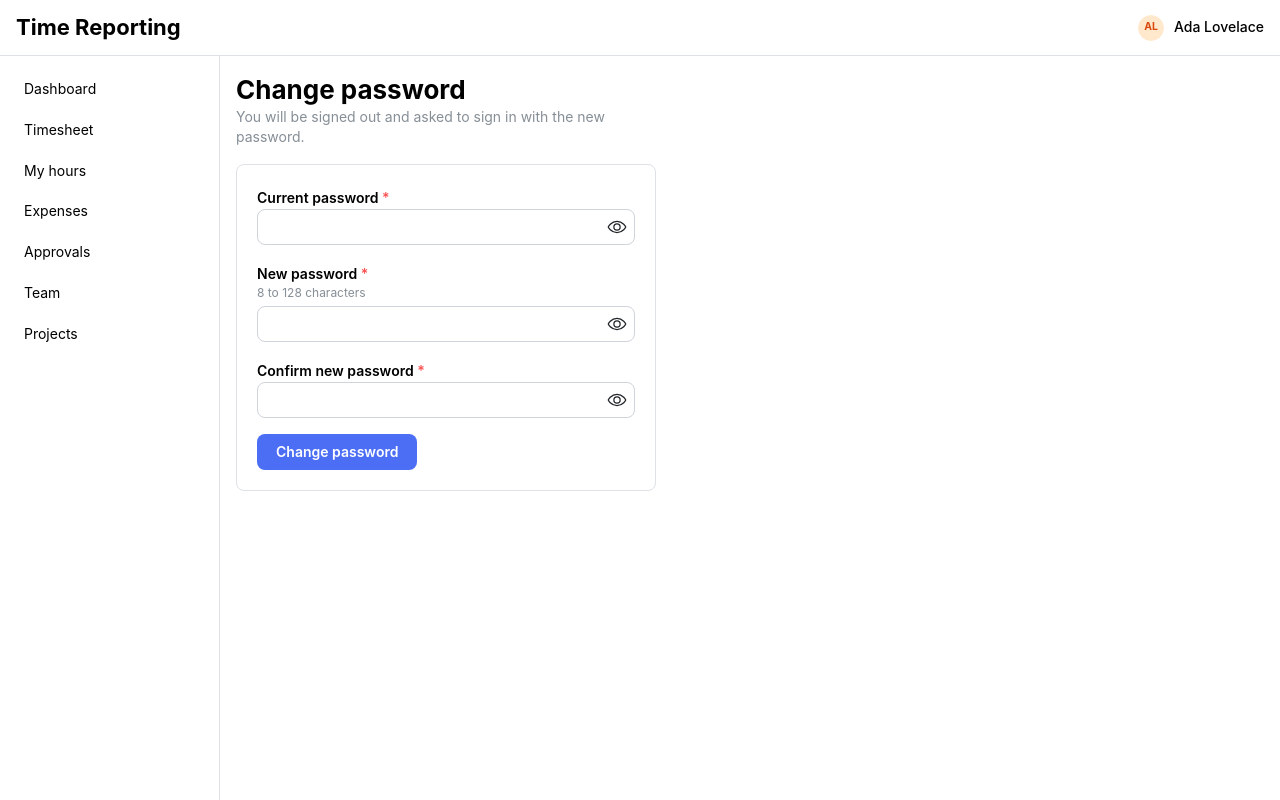
Test: changing the password › reports a wrong current password on its field
Expected: the heading "Change password" is shown, [236, 74, 466, 105]
Type "wrong-password" into the password field labelled "Current password *" at (446, 228), box [258, 210, 634, 244]
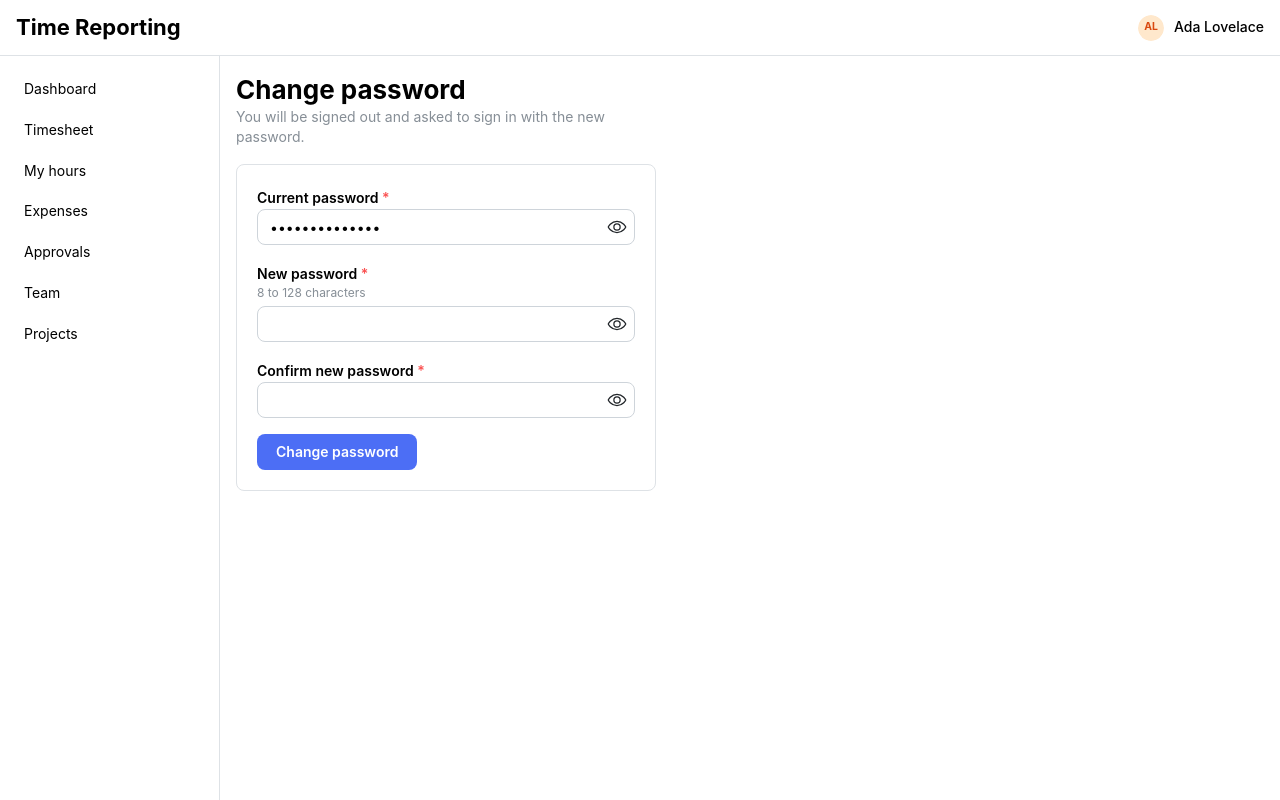
Type "new-password-1" into the password field labelled "New password *" at (446, 324), box [258, 307, 634, 341]
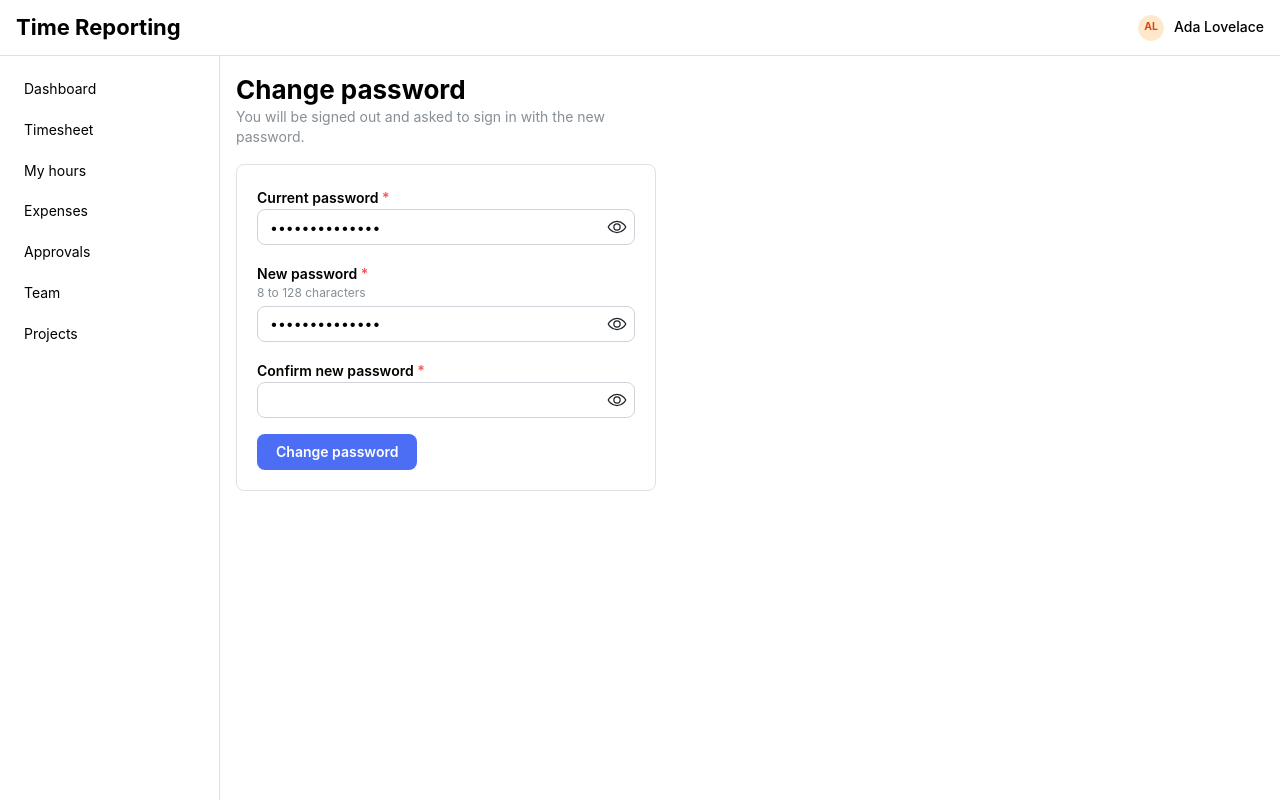
Type "new-password-1" into the password field labelled "Confirm new password *" at (446, 400), box [258, 384, 634, 418]
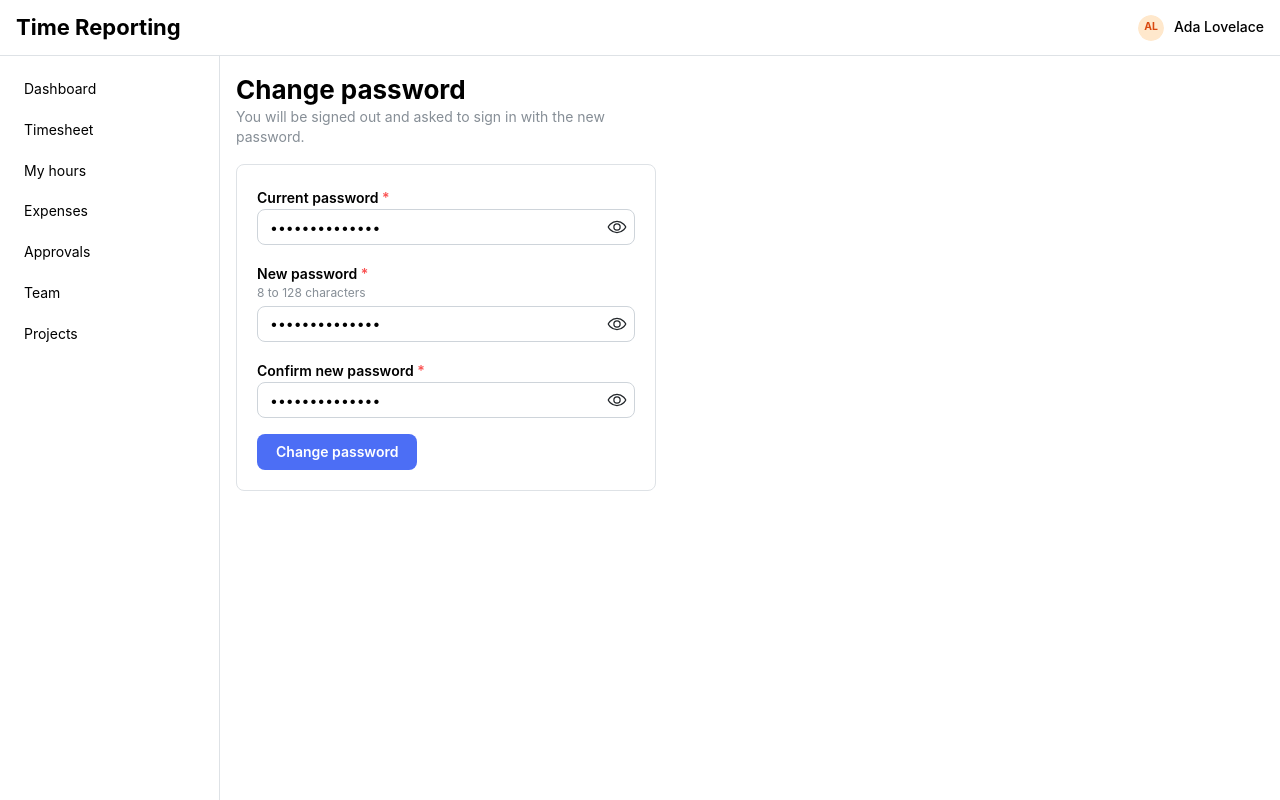
Click the button "Change password" at (337, 452), box [257, 434, 417, 470]
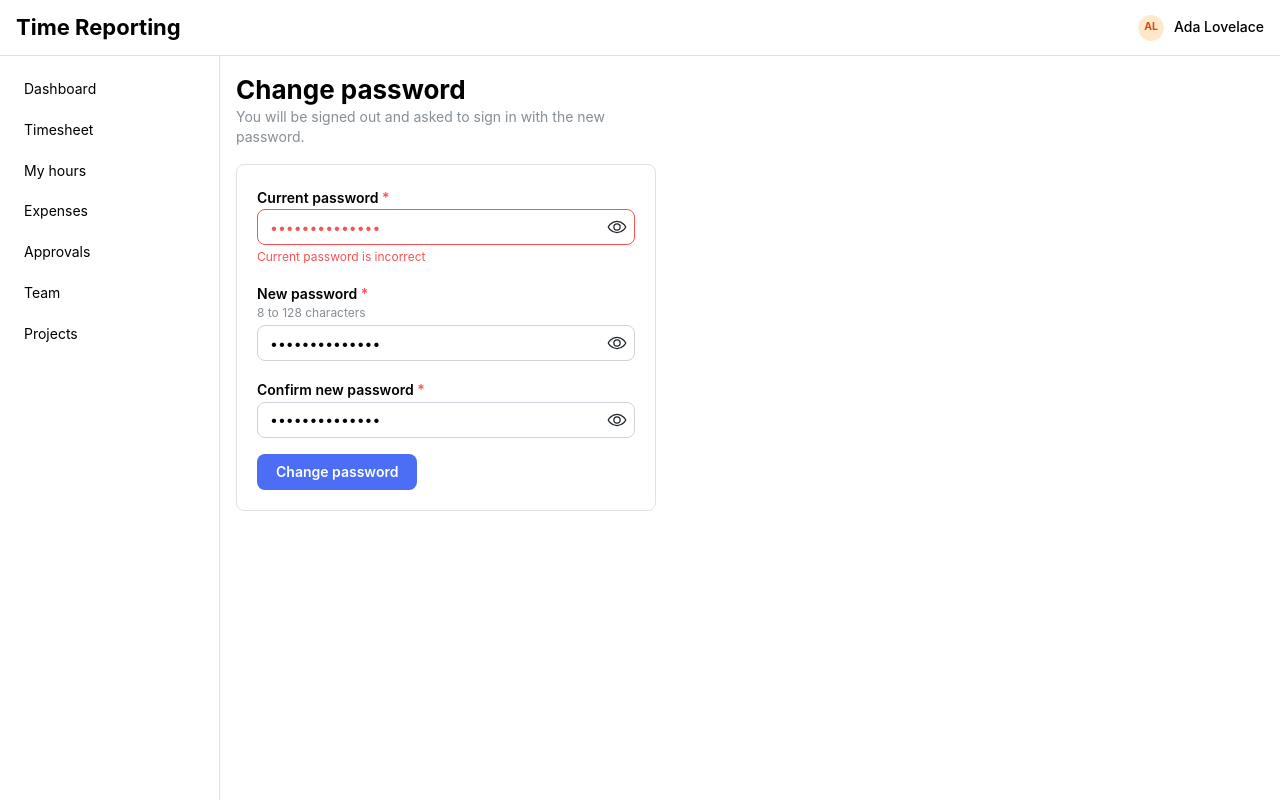
Result: the text "Current password is incorrect" is shown at [257, 250, 426, 264]
